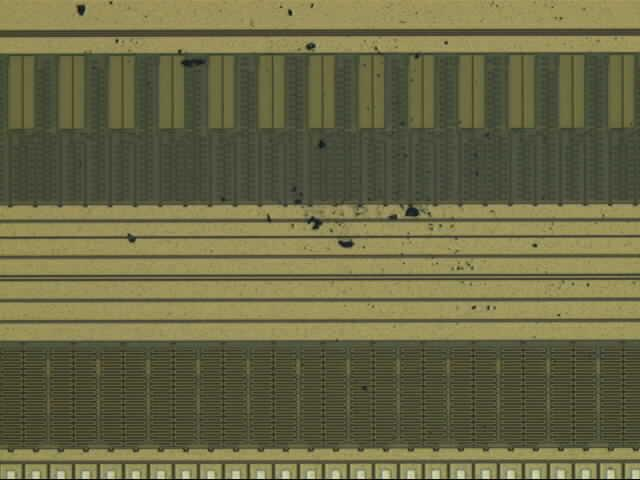PO CONTAMINATION: (71, 1, 630, 398)
